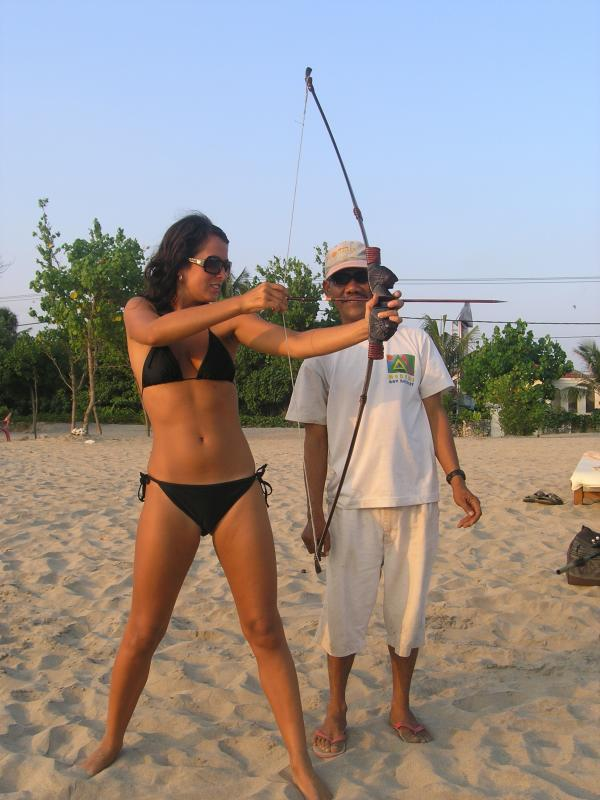person: (84, 212, 402, 795)
